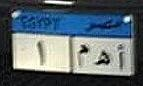1: (34, 40, 47, 68)
alif: (115, 43, 125, 73)
haa: (94, 48, 111, 66)
meem: (76, 43, 90, 66)
